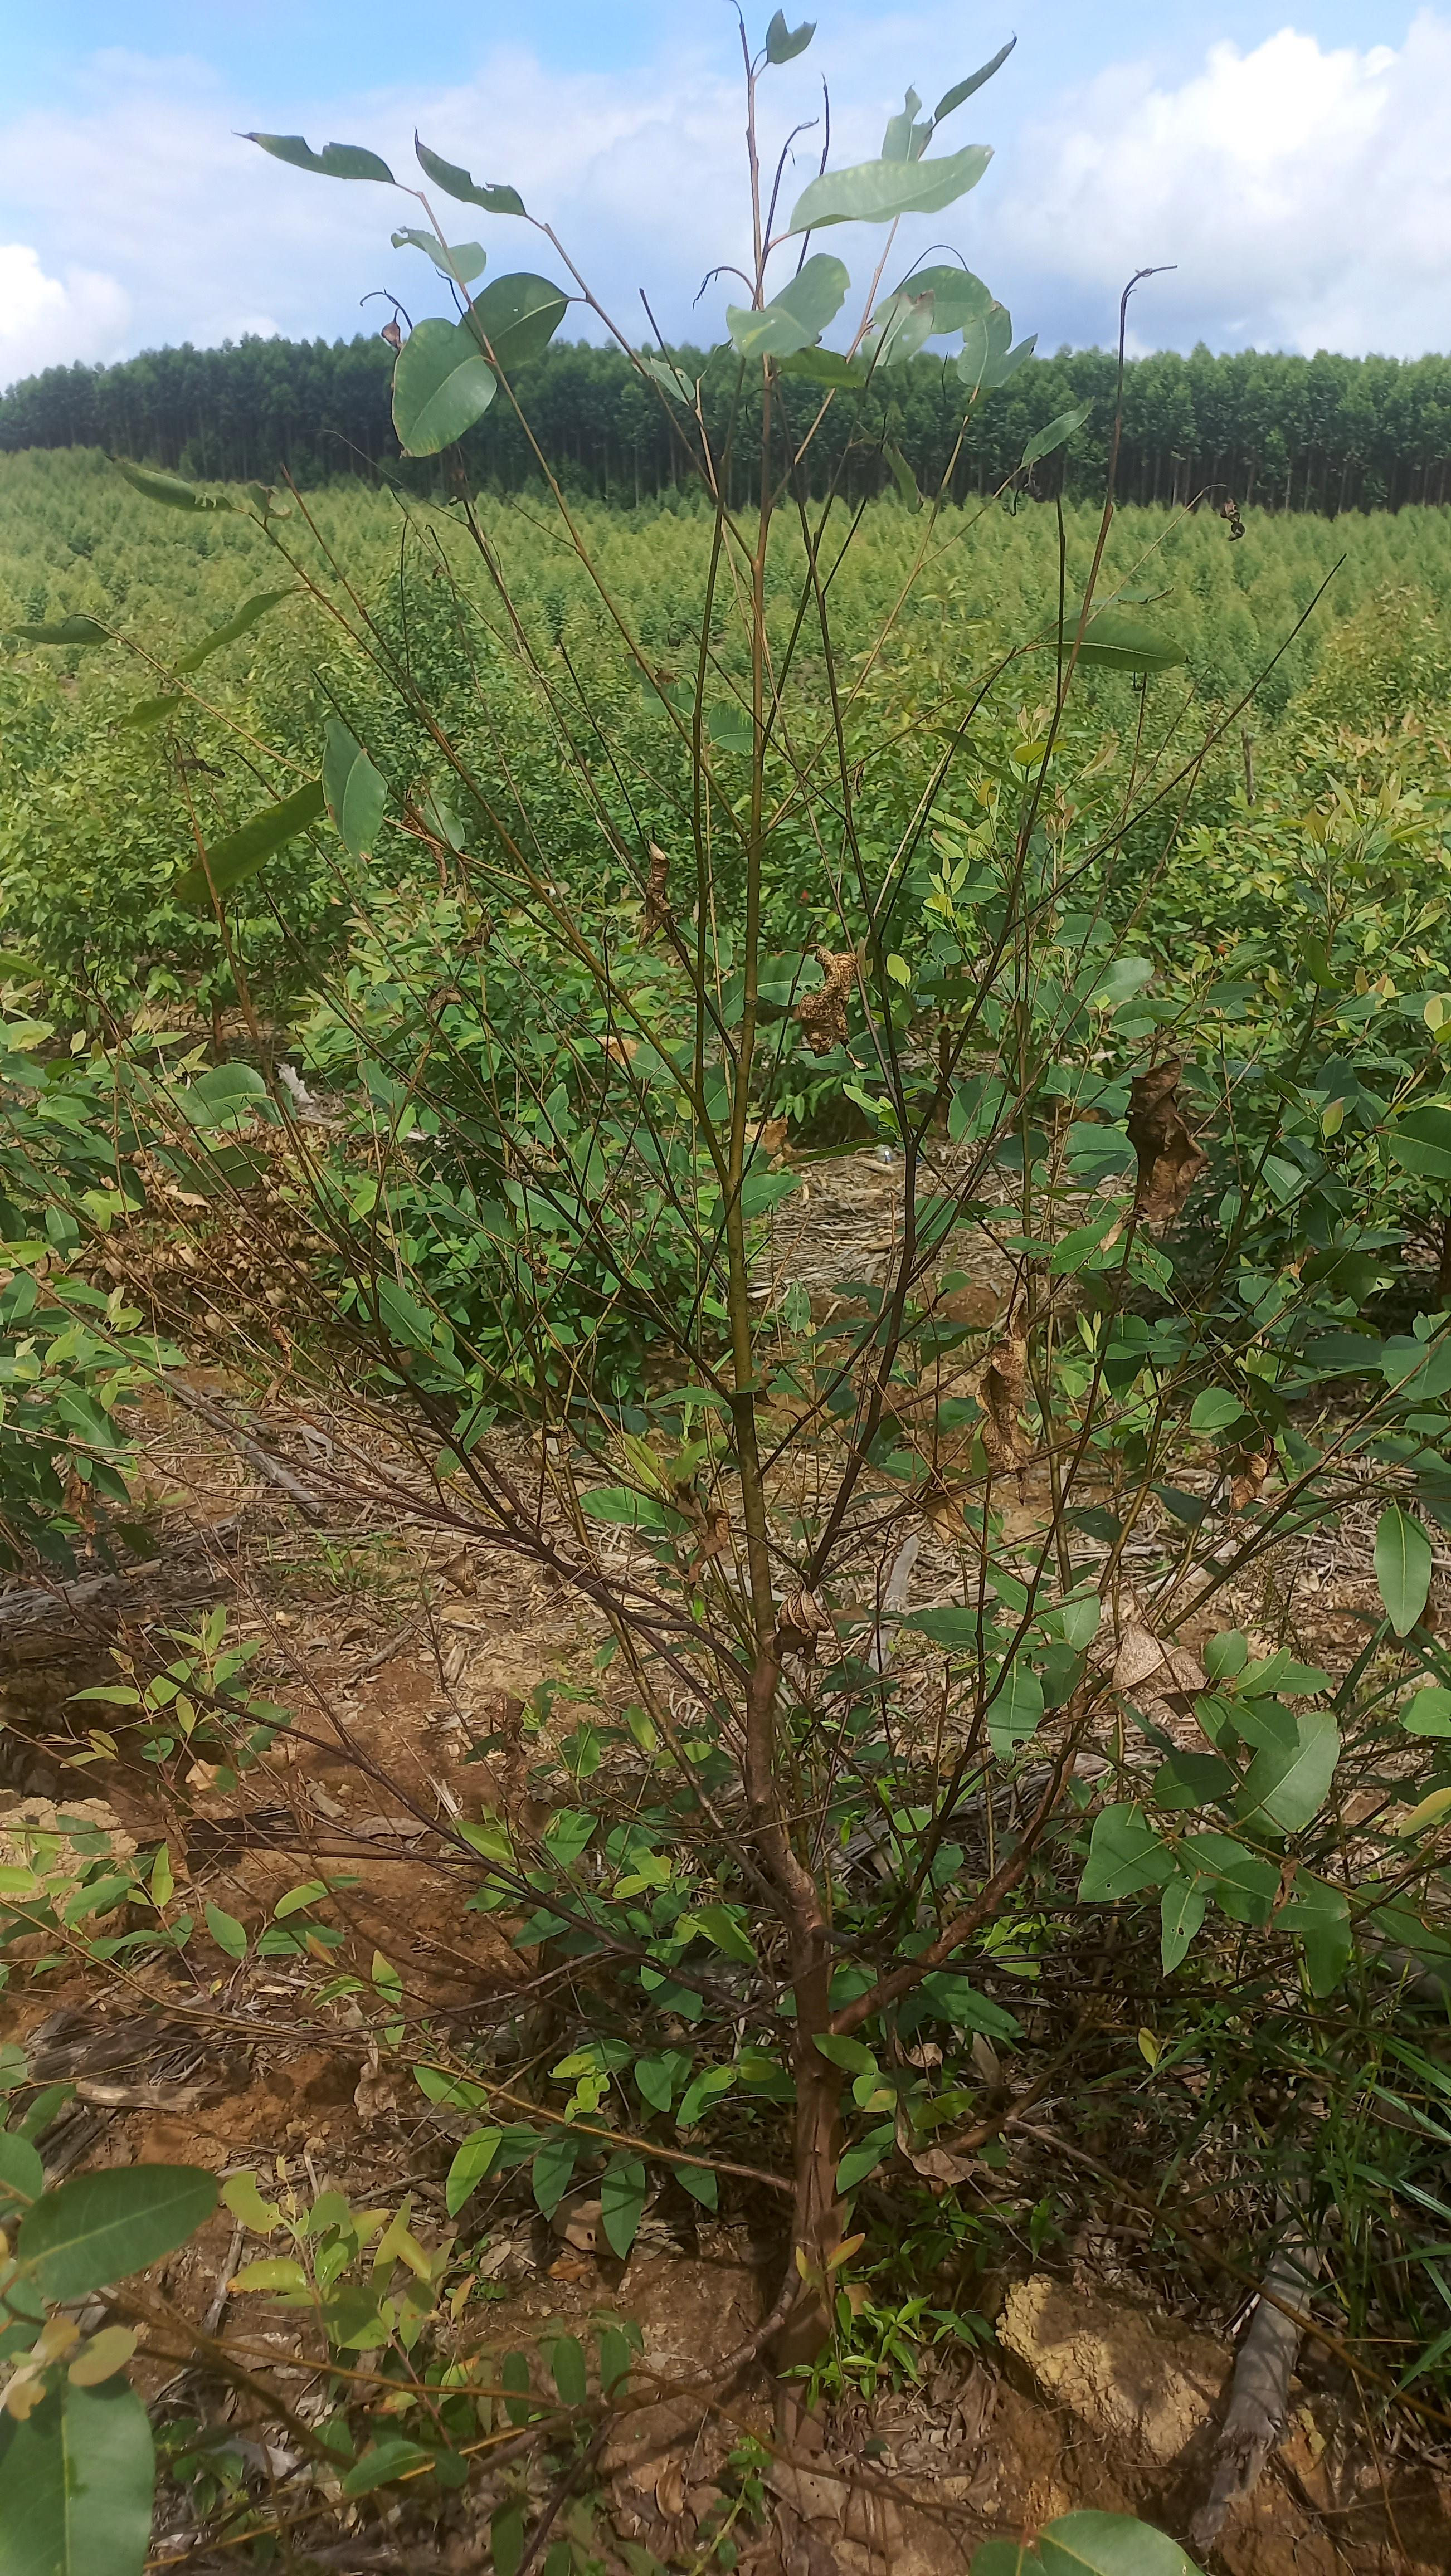Helopeltis-Withered Sprout: (1122, 1058, 1225, 1244), (966, 1325, 1074, 1497), (773, 932, 881, 1088), (483, 1700, 559, 1842), (110, 1136, 219, 1226), (681, 1506, 756, 1580), (375, 303, 428, 377)
